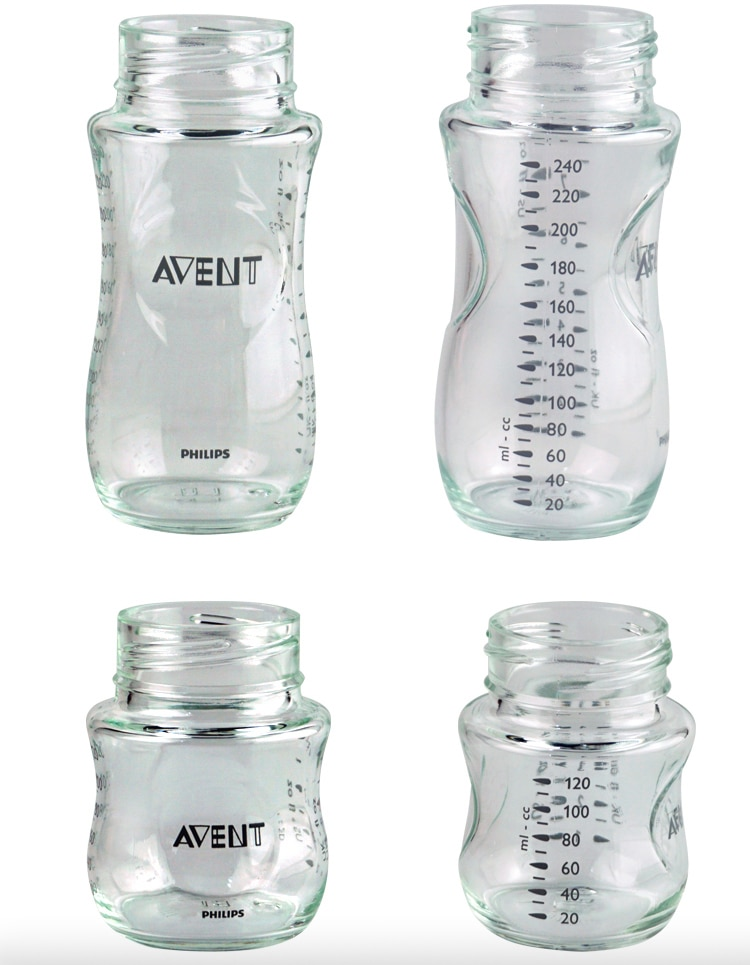glass_bottle: (63, 6, 353, 548), (424, 1, 684, 544), (70, 577, 359, 961), (433, 589, 717, 963)
